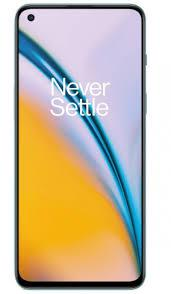Smartphone: (18, 4, 139, 284)
